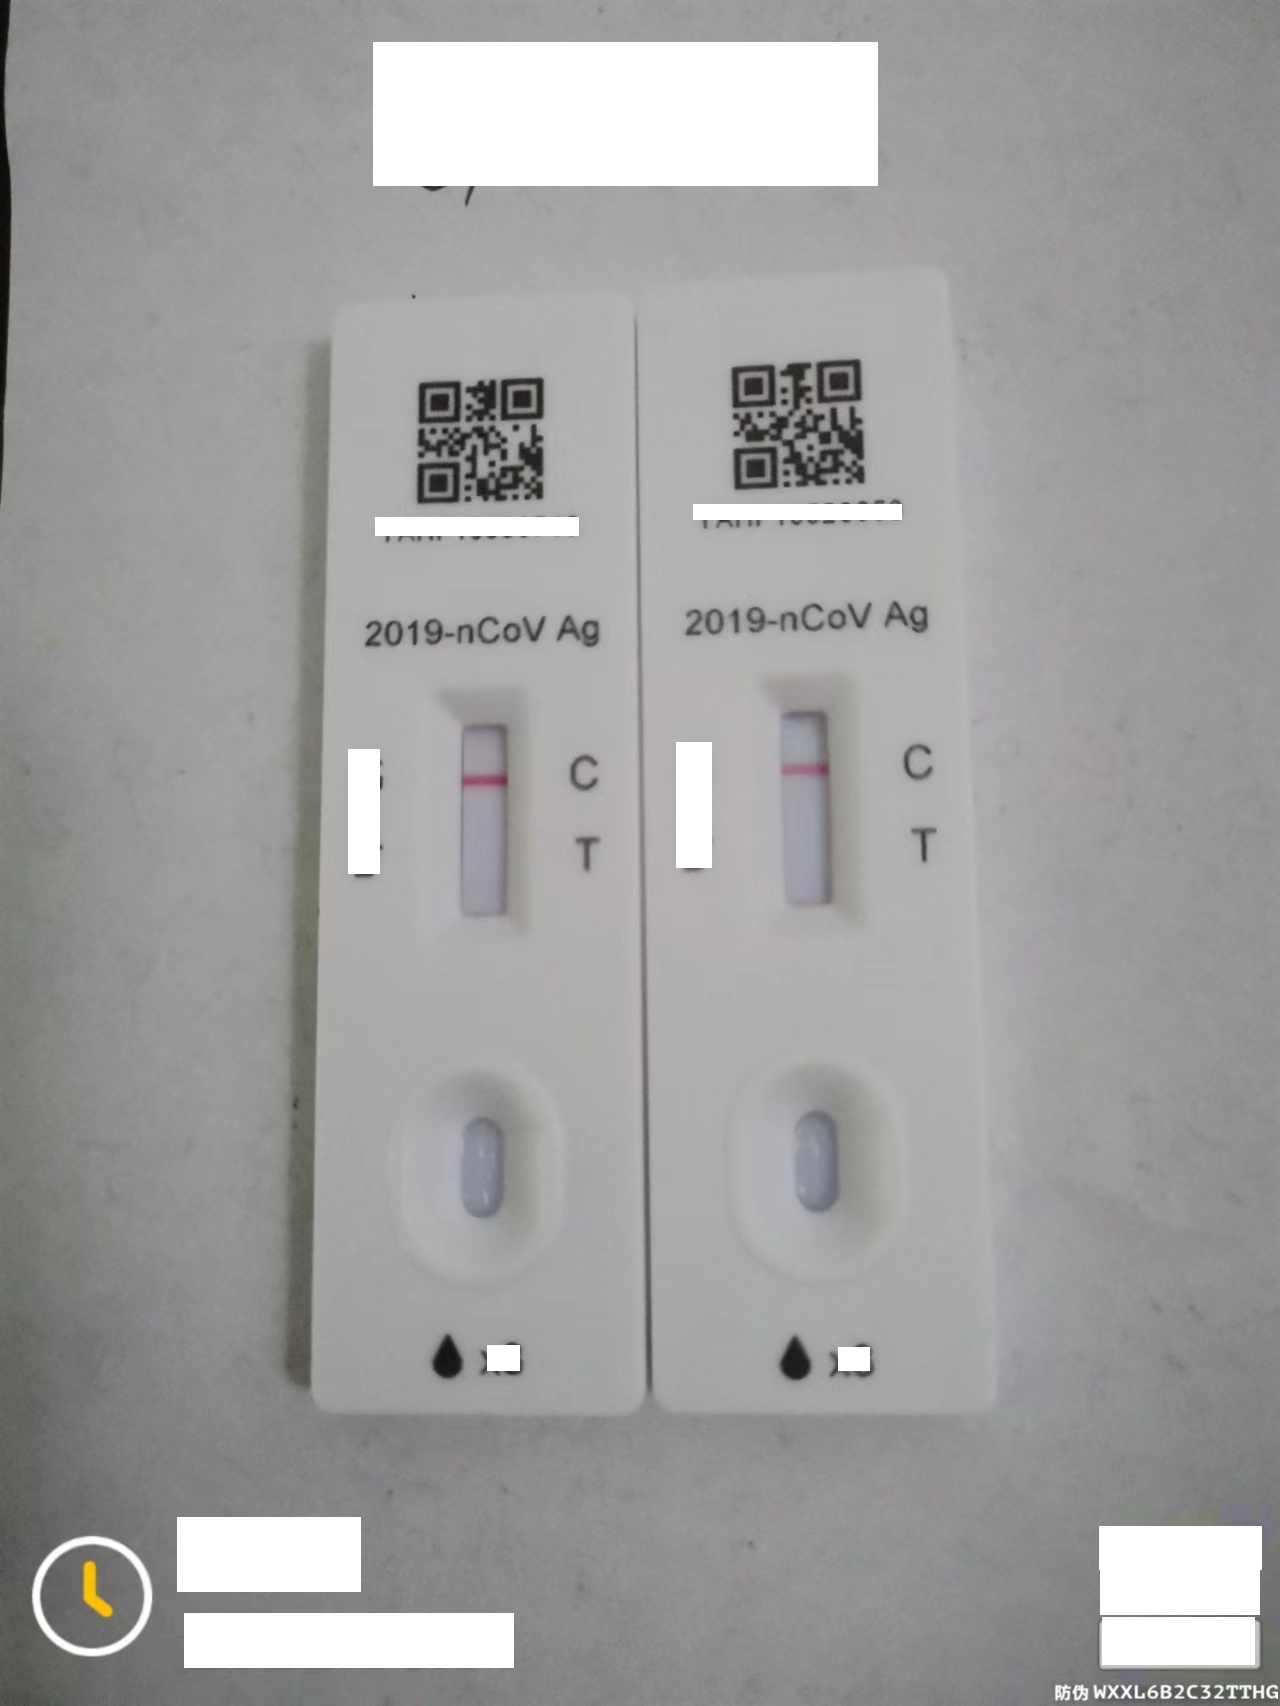negative: (762, 674, 854, 922), (442, 698, 528, 928)
positive: (762, 678, 851, 921)
